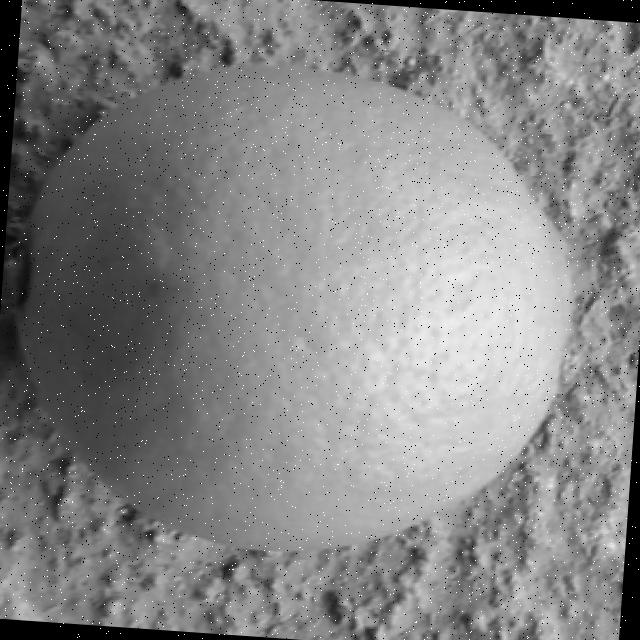Ripe: (0, 35, 610, 578)
